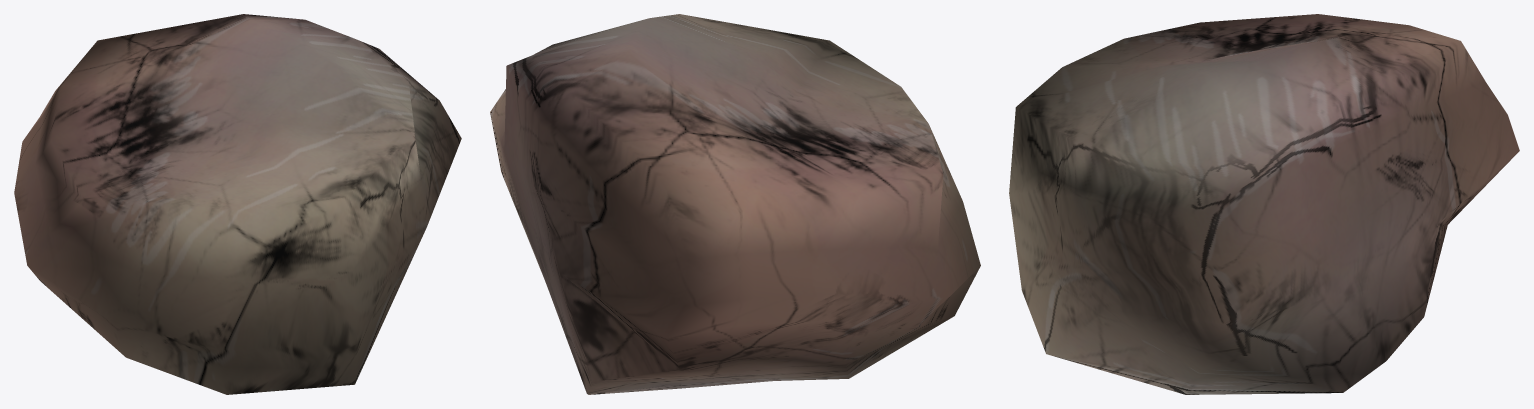
The model's file is Rock_02D.fbx.
3 views of the same model, side by side, from view 1: azimuth 30°, elevation 25°; view 2: azimuth 150°, elevation 25°; view 3: azimuth 270°, elevation 25° (orthographic). The views are drawn at different scales.
Visible parts, largest first — view 1: Rock01:Mesh3; view 2: Rock01:Mesh3; view 3: Rock01:Mesh3.
Boxes of the visible parts, x1=… form: Rock01:Mesh3: x1=14, y1=14, x2=461, y2=394; Rock01:Mesh3: x1=490, y1=14, x2=980, y2=394; Rock01:Mesh3: x1=1009, y1=14, x2=1519, y2=394.
Size of the model in its own units: 8.5 by 6.04 by 7.85.
